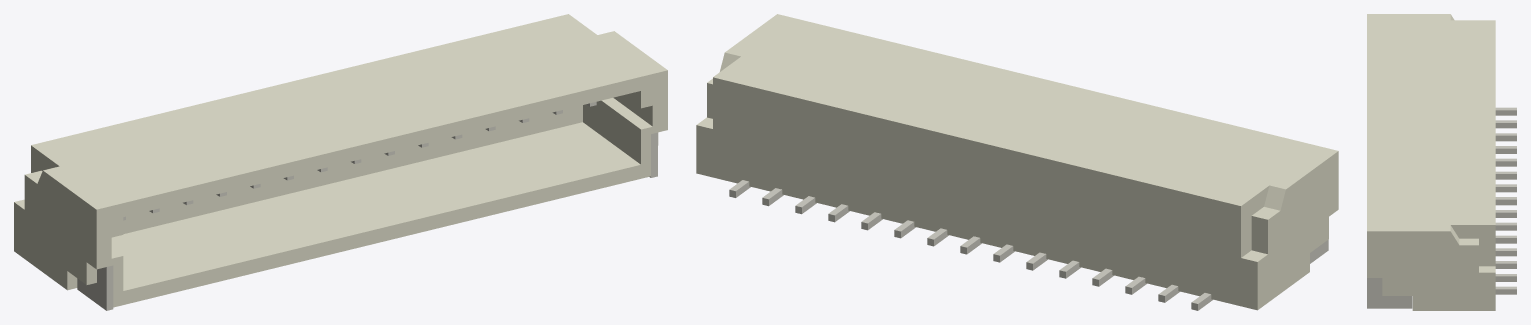
File: kc-jst_sh_sm15b-srss-tb_1x15-1mp_p1.00mm_horizontal.glb
The picture shows the model from 3 angles, left to right: view 1: azimuth 30°, elevation 25°; view 2: azimuth 150°, elevation 25°; view 3: azimuth 270°, elevation 25°; orthographic projection. The views are drawn at different scales.
Parts seen in each view (by area): view 1: 0.75_0.75_0.6666666666666666_0, 0.6666666666666666_0.6666666666666666_0.5833333333333334_0.8; view 2: 0.75_0.75_0.6666666666666666_0, 0.6666666666666666_0.6666666666666666_0.5833333333333334_0.8; view 3: 0.75_0.75_0.6666666666666666_0, 0.6666666666666666_0.6666666666666666_0.5833333333333334_0.8.
Part boxes in pixels (x1=…): 0.75_0.75_0.6666666666666666_0: x1=14, y1=14, x2=667, y2=307; 0.6666666666666666_0.6666666666666666_0.5833333333333334_0.8: x1=77, y1=102, x2=657, y2=310; 0.75_0.75_0.6666666666666666_0: x1=696, y1=14, x2=1338, y2=310; 0.6666666666666666_0.6666666666666666_0.5833333333333334_0.8: x1=729, y1=180, x2=1328, y2=310; 0.75_0.75_0.6666666666666666_0: x1=1367, y1=14, x2=1495, y2=310; 0.6666666666666666_0.6666666666666666_0.5833333333333334_0.8: x1=1367, y1=107, x2=1516, y2=308.
Bounding box in the file's own units: 1.7 × 0.296 × 0.495.
